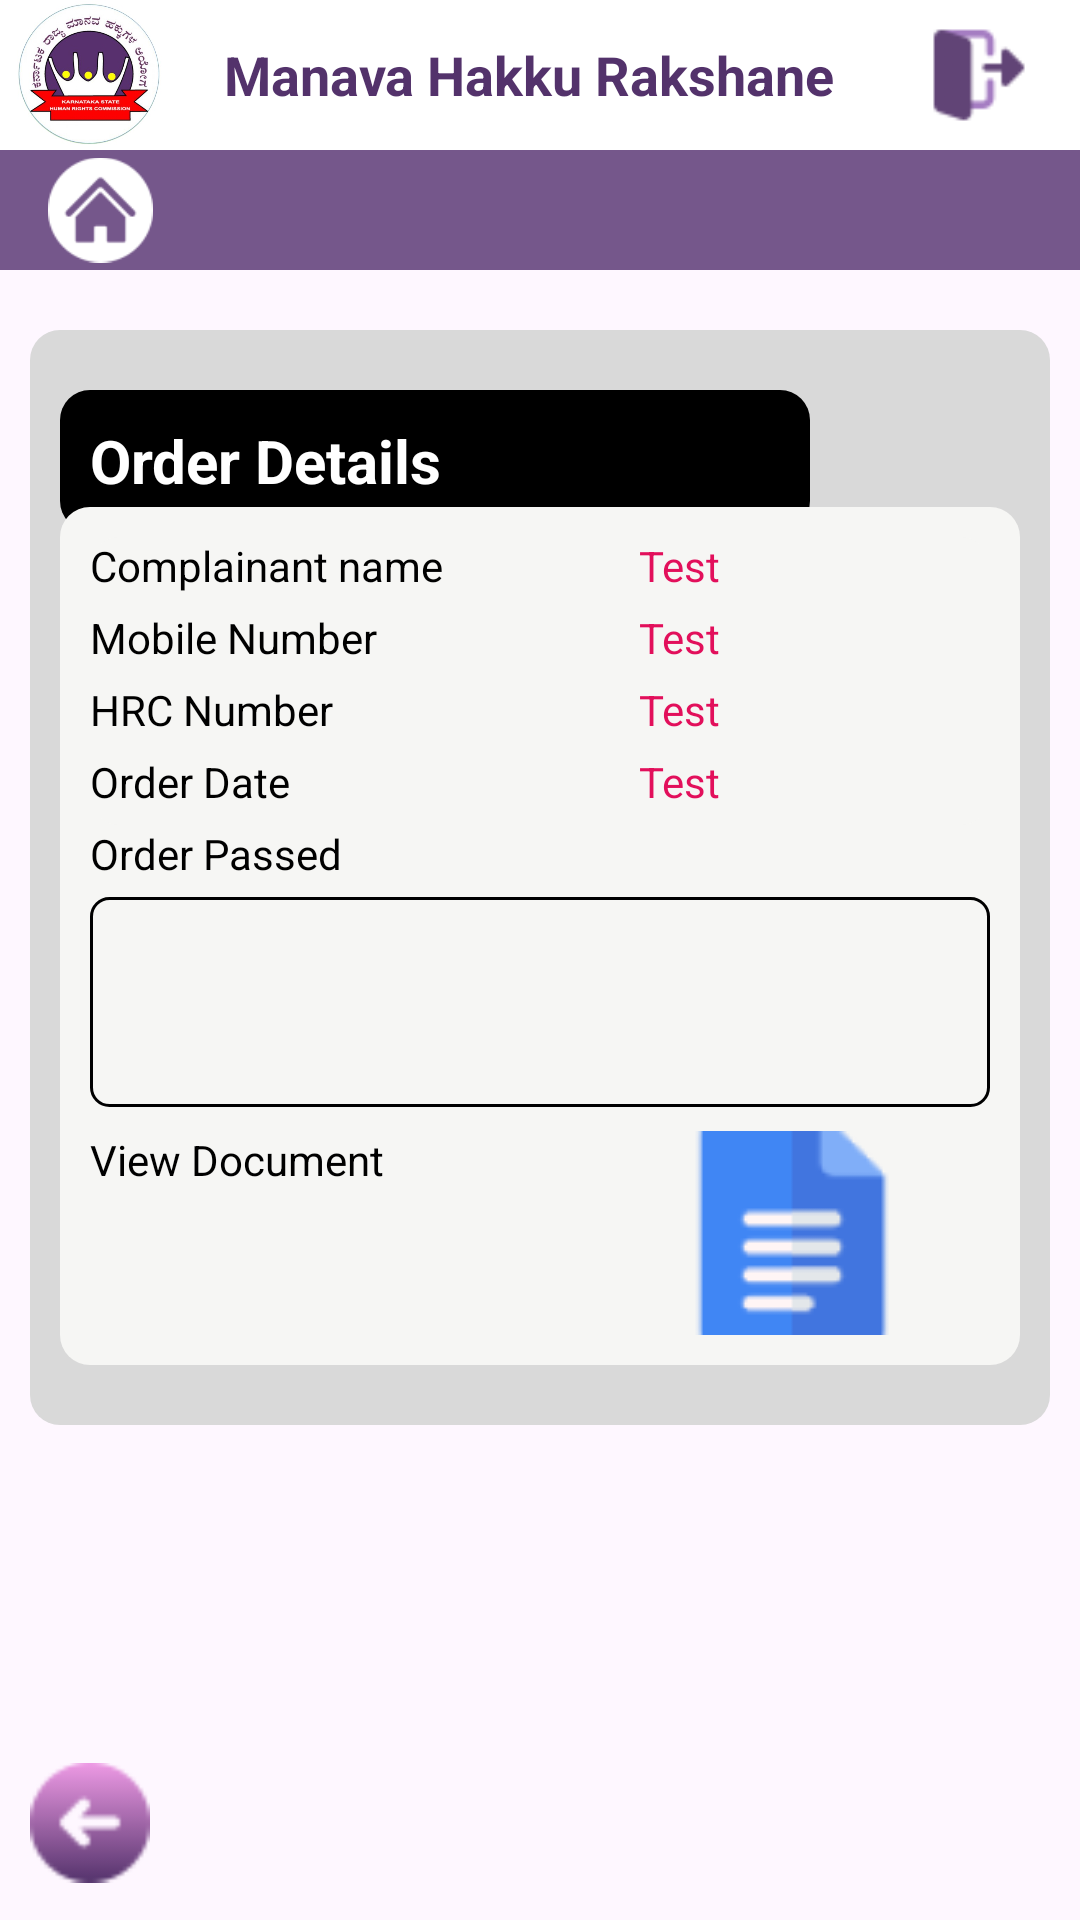

Icon click points for this 1080 x 1920 phone screenshot, format [x,y]:
back: [90,1823]
home: [100,210]
